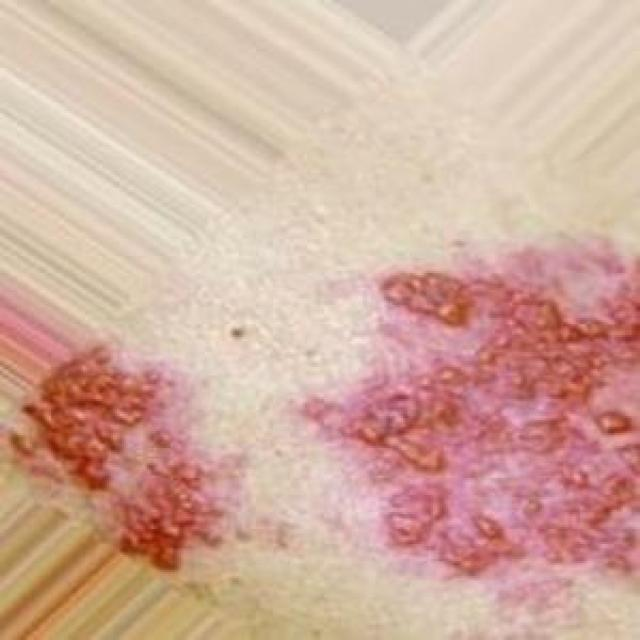Shingles: (309, 259, 640, 575), (19, 338, 221, 570)
